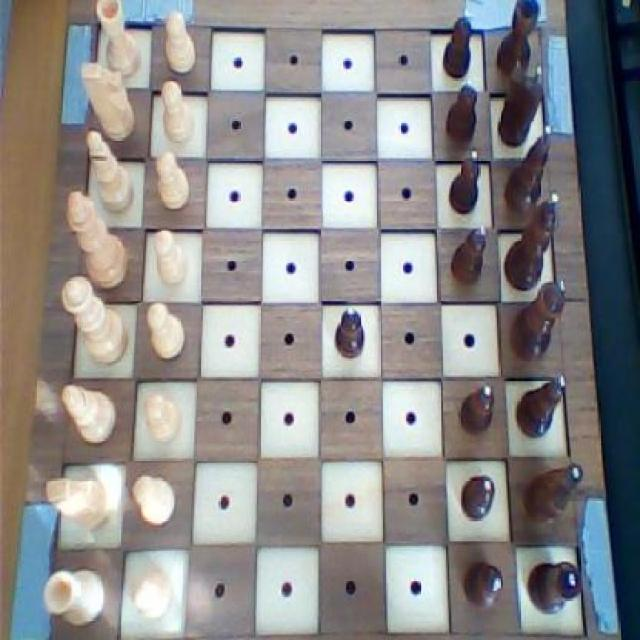bishop: (502, 121, 556, 222), (514, 370, 571, 442)
black-bishop: (500, 186, 562, 298)
black-king: (514, 456, 587, 532), (494, 62, 548, 150)
black-knight: (438, 146, 484, 219), (444, 218, 490, 290), (442, 74, 482, 151), (437, 8, 478, 83), (458, 556, 506, 620), (454, 374, 498, 441), (454, 468, 500, 528), (329, 301, 368, 367)
black-pawn: (508, 274, 570, 365)
black-queen: (490, 0, 544, 83), (523, 556, 585, 616)
black-rook: (80, 126, 135, 222), (60, 378, 120, 448)
white-bishop: (61, 186, 132, 293), (55, 273, 130, 372)
white-king: (77, 55, 141, 144), (42, 469, 114, 538)
white-knight: (143, 297, 192, 368), (155, 74, 197, 151), (125, 563, 176, 625), (163, 2, 202, 80), (140, 389, 189, 451), (131, 468, 179, 530), (150, 222, 192, 292), (151, 145, 192, 216)
white-queen: (90, 0, 148, 85), (38, 562, 108, 628)
